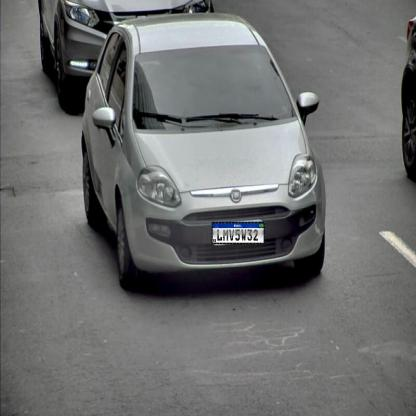PlacaM: (211, 222, 264, 244)
